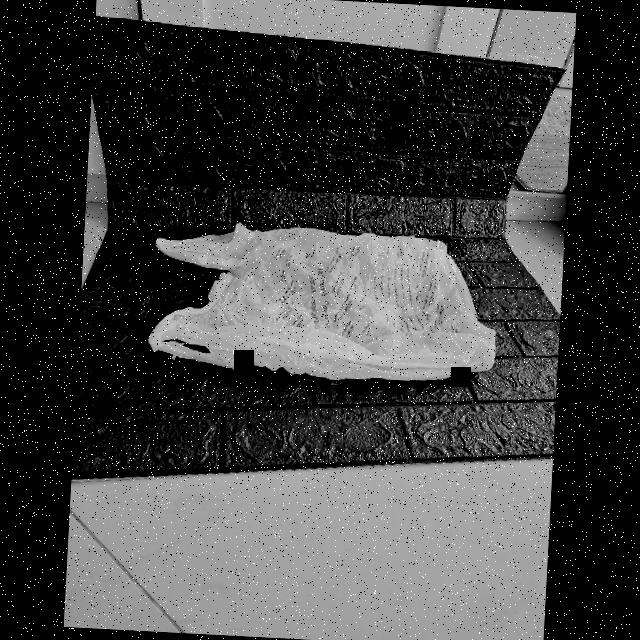plastic_bag: (139, 222, 502, 394)
